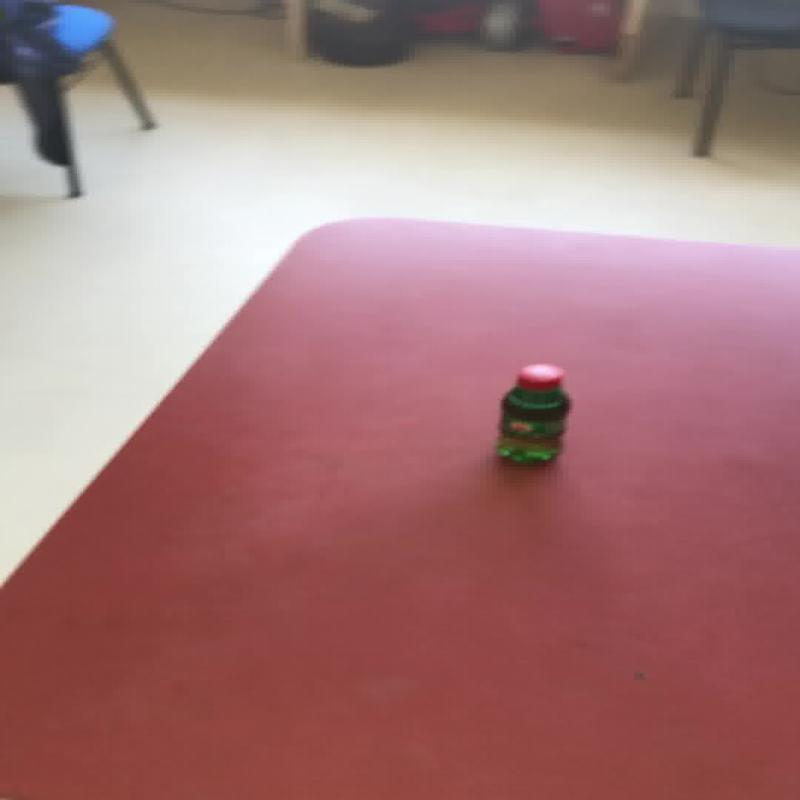guarana: (493, 362, 571, 466)
